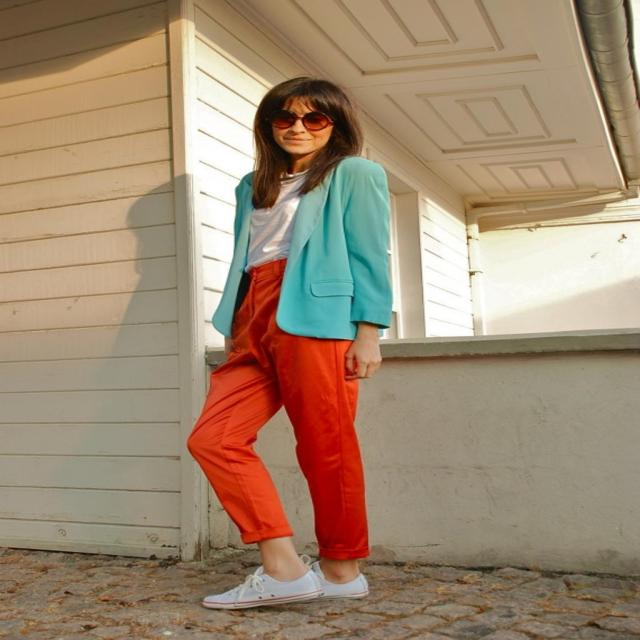Face: (247, 90, 352, 160)
